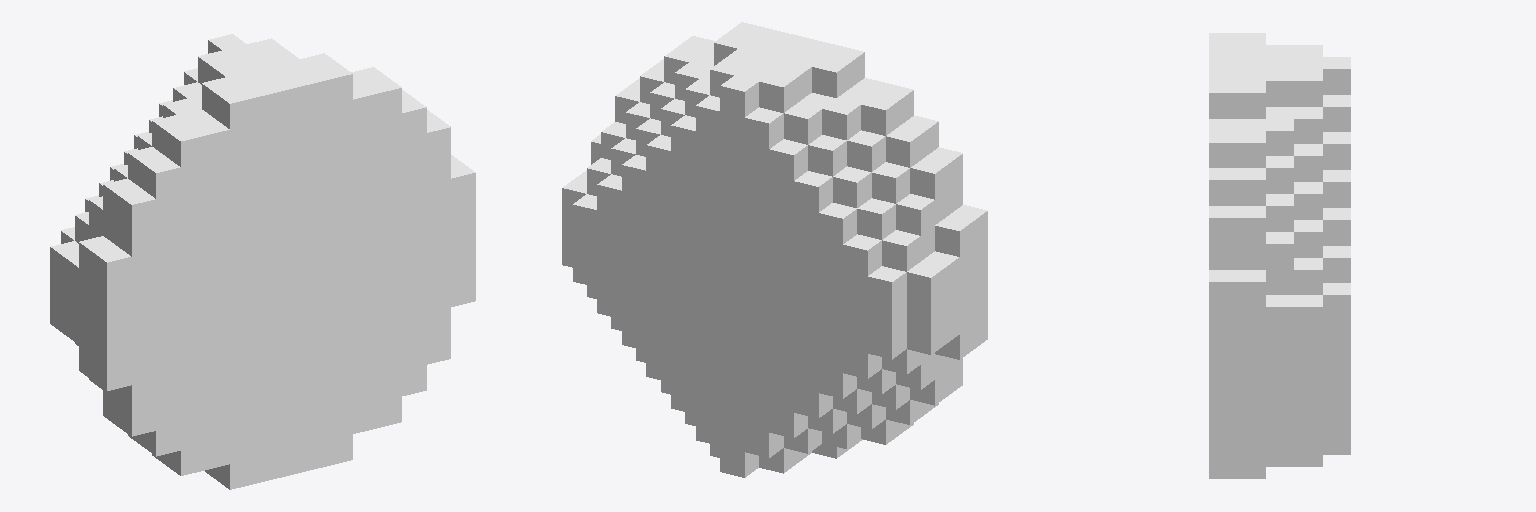
The model's file is slimeeye.obj.
3 views of the same model, side by side, from view 1: azimuth 30°, elevation 25°; view 2: azimuth 150°, elevation 25°; view 3: azimuth 270°, elevation 25° (orthographic).
Parts seen in each view (by area): view 1: object 1; view 2: object 1; view 3: object 1.
Part boxes in pixels (left/top/right/bottom): object 1: left=50, top=34, right=475, bottom=489; object 1: left=562, top=22, right=987, bottom=477; object 1: left=1209, top=33, right=1350, bottom=478.
Bounding box in the file's own units: 1.5 × 1.5 × 0.5.